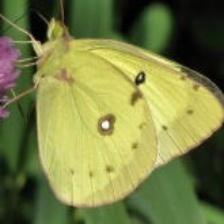butterfly: (6, 19, 224, 208)
